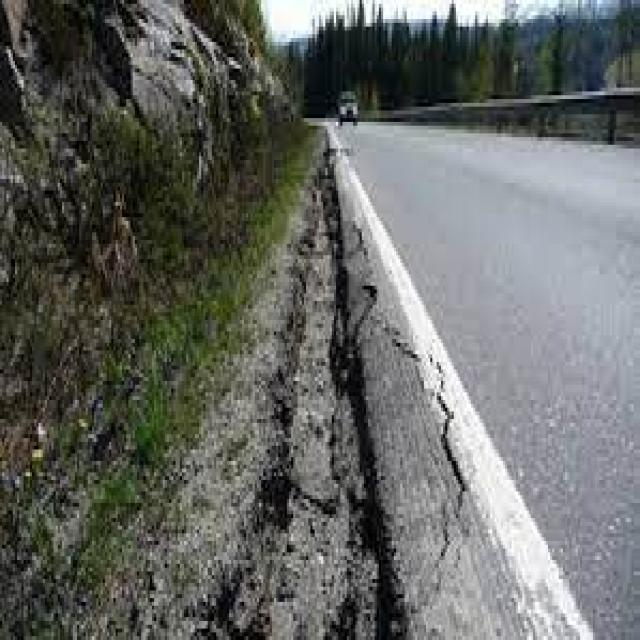Pothole: (147, 155, 591, 600)
